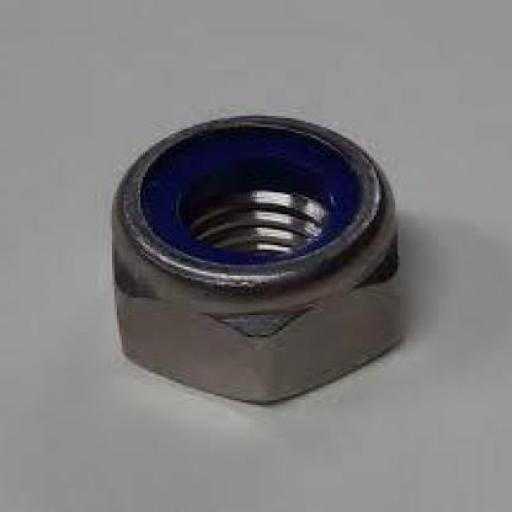Nut: (110, 115, 402, 406)
